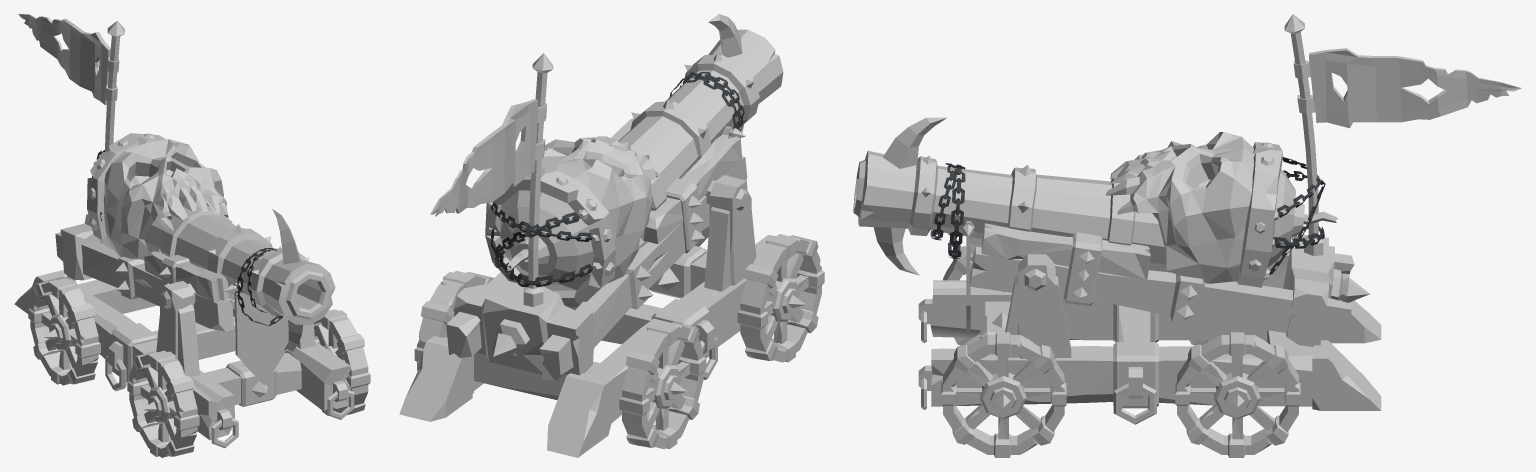
File: SM_Veh_Cannon_01.fbx
The picture shows the model from 3 angles, left to right: view 1: azimuth 30°, elevation 25°; view 2: azimuth 150°, elevation 25°; view 3: azimuth 270°, elevation 25°; orthographic projection. The views are drawn at different scales.
Parts seen in each view (by area): view 1: SM_Veh_Cannon_01; view 2: SM_Veh_Cannon_01; view 3: SM_Veh_Cannon_01.
Boxes of the visible parts, box(x1,y1,x2,y2) form: SM_Veh_Cannon_01: box(14, 14, 370, 457); SM_Veh_Cannon_01: box(399, 14, 824, 457); SM_Veh_Cannon_01: box(853, 14, 1521, 457).
Bounding box in the file's own units: 180 × 262 × 414.
